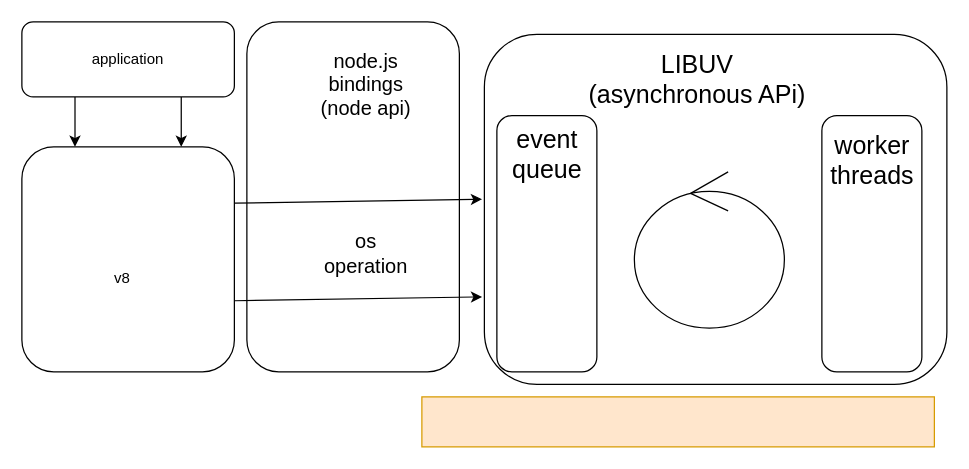
The diagram is 969 pixels wide and 469 high, and some of its shapes have lost their labels. The shapes that lost their labels are listed below. From the top down, each one's box as (x1, y1, x2, y2) in pixels, then its label:
(633, 171, 784, 328): event loop
(421, 396, 934, 447): libuv 内部会去线程池中实现功能，将要执行的方法添加到event queue中
